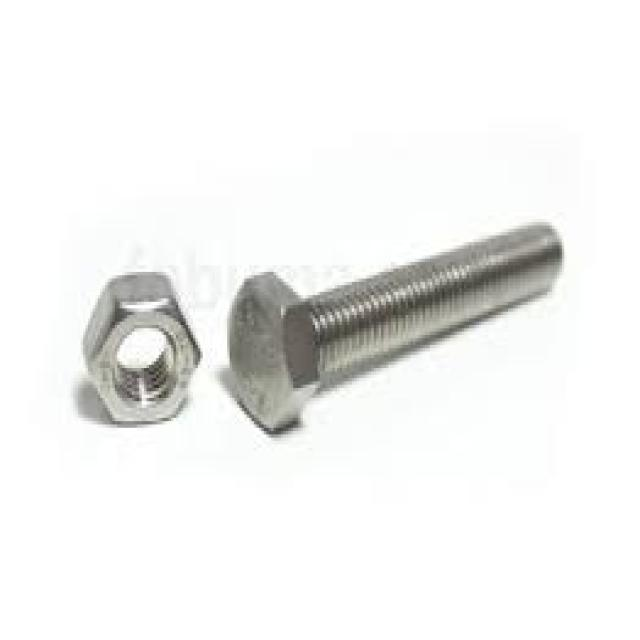Turning: (215, 241, 640, 446), (64, 226, 210, 447)
